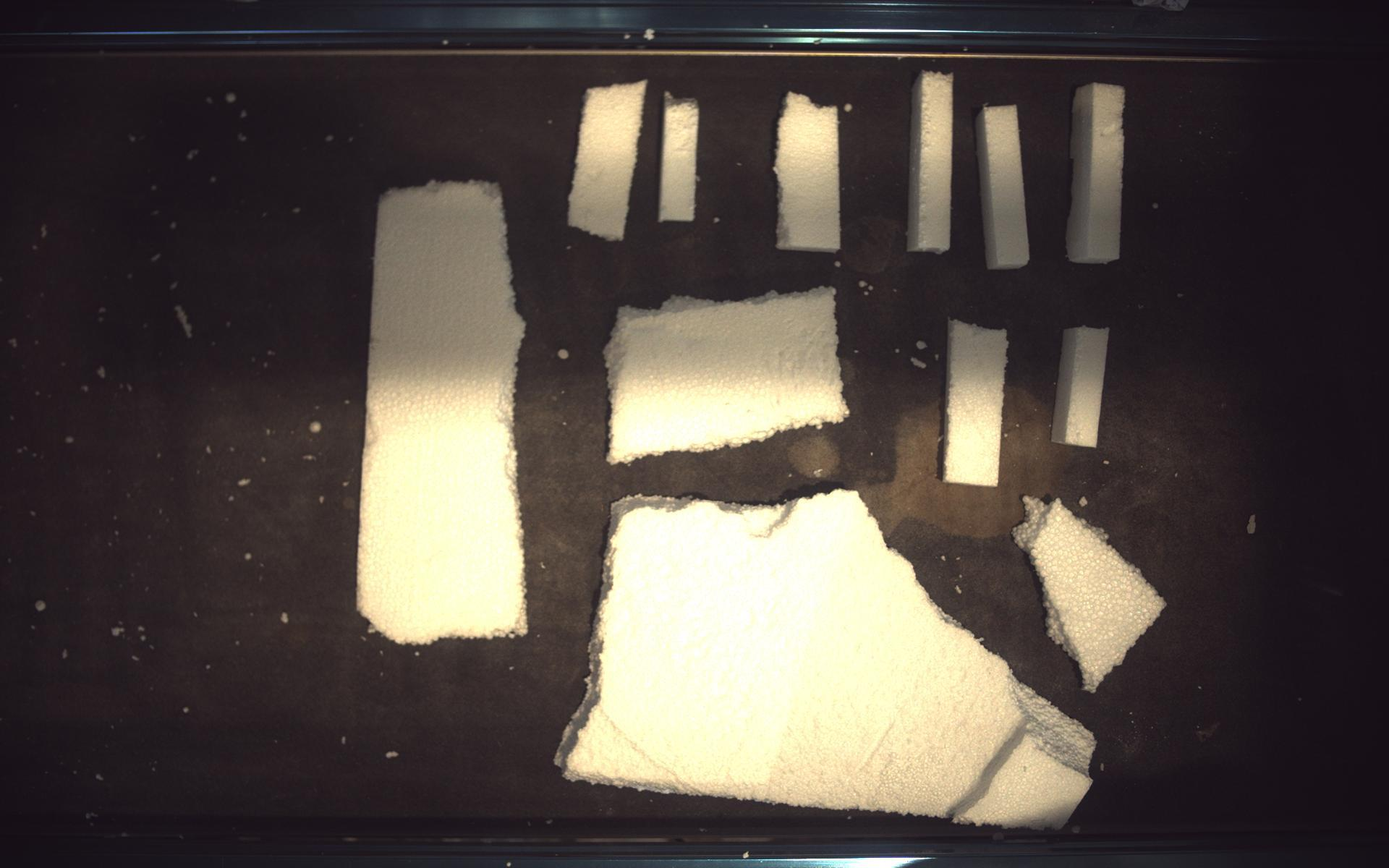foam: (560, 490, 1097, 830), (357, 181, 527, 644), (606, 286, 850, 464), (1016, 497, 1168, 693), (569, 79, 647, 240), (945, 319, 1009, 487), (1069, 82, 1128, 263), (776, 90, 842, 251), (978, 106, 1032, 268), (909, 69, 955, 252), (1054, 328, 1113, 448), (660, 91, 700, 221)
